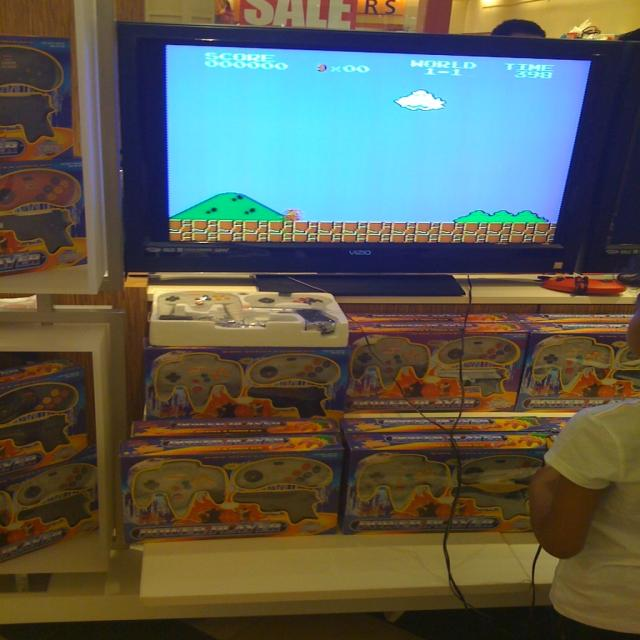Toy: (127, 461, 232, 520), (154, 352, 244, 408), (344, 333, 433, 388), (362, 453, 444, 511), (529, 338, 618, 387), (238, 352, 342, 388), (462, 454, 552, 492), (233, 456, 328, 491), (432, 338, 516, 366)
